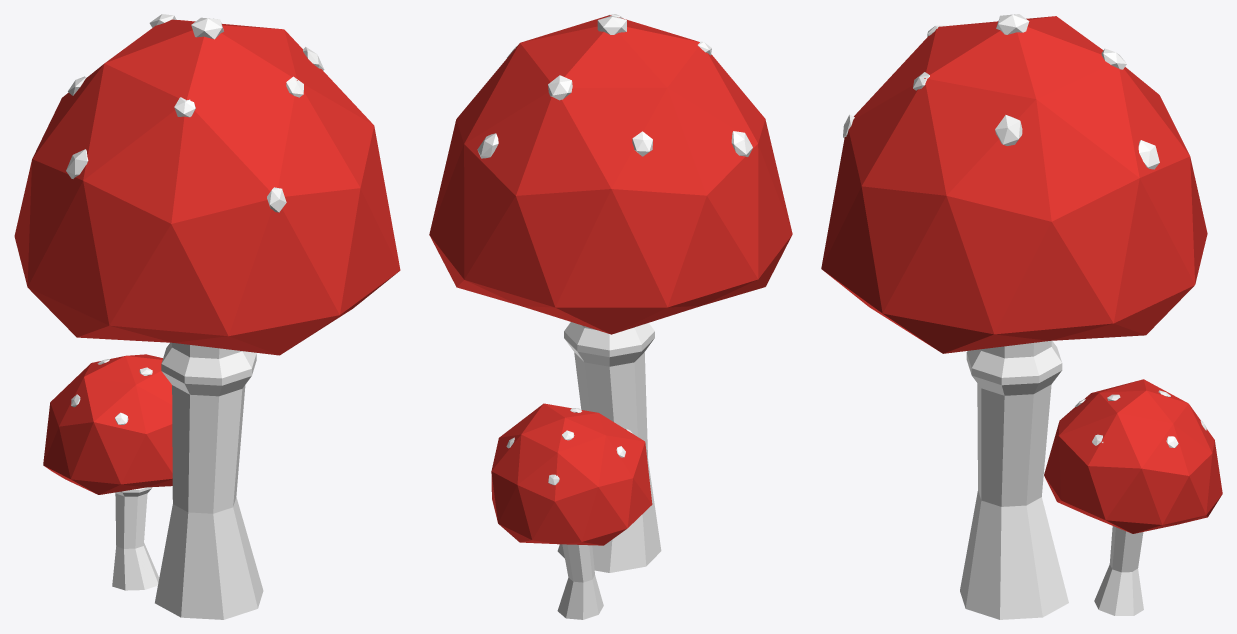
File: mushroom-2.glb
3 views of the same model, side by side, from view 1: azimuth 30°, elevation 25°; view 2: azimuth 150°, elevation 25°; view 3: azimuth 270°, elevation 25° (orthographic). The views are drawn at different scales.
Visible parts, largest first — view 1: Mushroom5_3; view 2: Mushroom5_3; view 3: Mushroom5_3.
Part boxes in pixels (x1,y1,x2,y2): Mushroom5_3: (14, 14, 400, 619); Mushroom5_3: (429, 14, 792, 619); Mushroom5_3: (821, 14, 1222, 619).
Size of the model in its own units: 0.5521 by 0.9335 by 0.5638.
